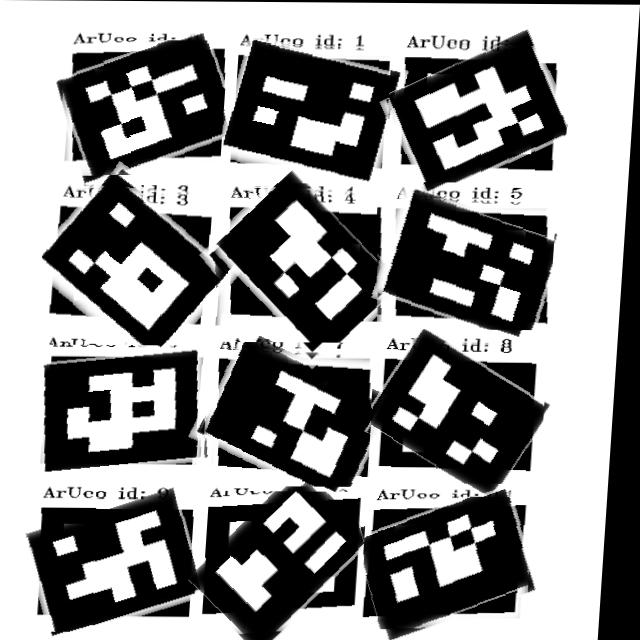aruco: (41, 181, 238, 346), (209, 183, 400, 342), (385, 39, 573, 182), (203, 344, 388, 487), (222, 42, 405, 183), (373, 340, 553, 483), (200, 491, 374, 638), (373, 194, 560, 329), (56, 39, 235, 178), (29, 496, 211, 632), (368, 495, 545, 631), (40, 349, 218, 473)
